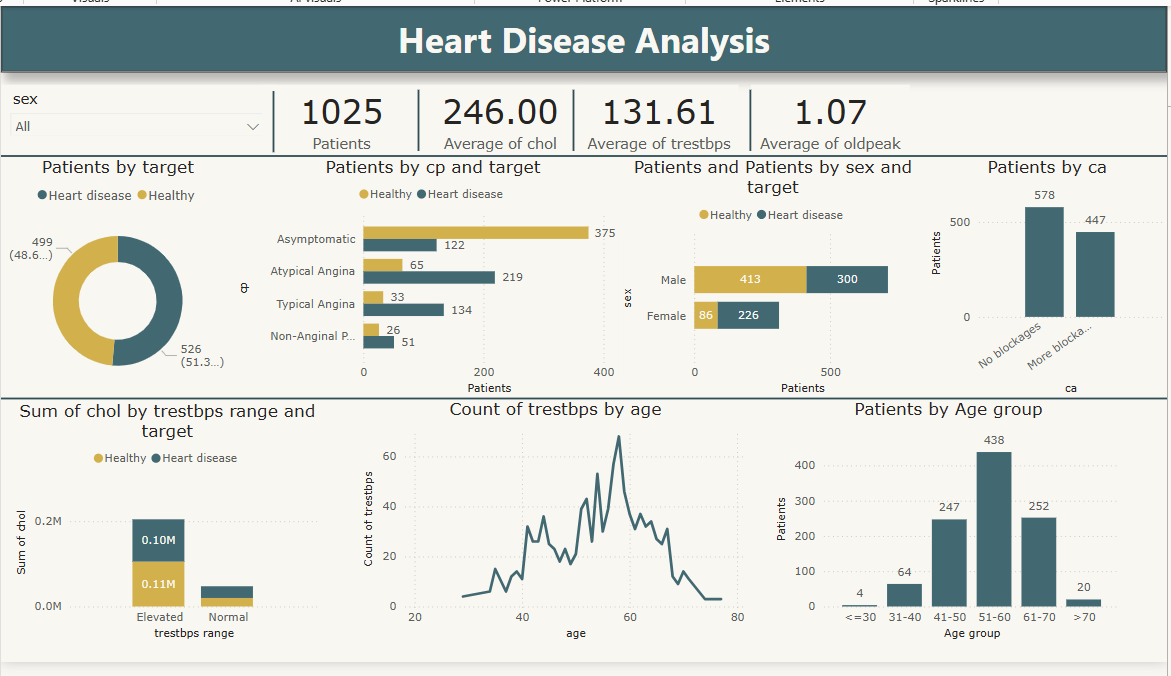

The page's visual inventory and layout, read from the dashboard file:
{"tool":"powerbi","page":{"name":"Page 1","canvas":[1280,720],"ordinal":0},"visuals":[{"type":"donutChart","fields":{"Category":["heart.target"],"Y":["heart.Patients"]},"box":[0,164.7,256.6,266.2],"z":0},{"type":"clusteredBarChart","fields":{"Category":["heart.cp"],"Y":["heart.Patients"],"Series":["heart.target"]},"box":[256.6,164.7,435,266.2],"z":1},{"type":"barChart","fields":{"Series":["heart.target"],"Category":["heart.sex"],"Y":["heart.Patients"]},"box":[677.9,164.7,338.9,266.2],"z":2},{"type":"columnChart","fields":{"Category":["heart.ca"],"Y":["heart.Patients"]},"box":[1016.8,164.7,263.5,266.2],"z":3},{"type":"columnChart","fields":{"Category":["heart.trestbps range"],"Series":["heart.target"],"Y":["Sum(heart.chol)"]},"box":[12.3,432.2,340.3,267.6],"z":4},{"type":"columnChart","fields":{"Y":["heart.Patients"],"Category":["Age groups.Age group"]},"box":[846.7,430.9,387,269],"z":5},{"type":"lineChart","fields":{"Category":["heart.age"],"Y":["CountNonNull(heart.trestbps)"]},"box":[393.8,430.9,429.5,269],"z":6},{"type":"shape","box":[0,0,1280.3,72.7],"z":7},{"type":"slicer","fields":{"Values":["heart.sex"]},"box":[0,86.4,299.1,56.3],"z":8},{"type":"card","fields":{"Values":["heart.Patients"]},"box":[286.8,86.4,174.3,78.2],"z":9},{"type":"card","fields":{"Values":["Avg(heart.chol)"]},"box":[461.1,86.4,174.3,78.2],"z":10},{"type":"card","fields":{"Values":["Avg(heart.trestbps)"]},"box":[635.3,86.4,174.3,78.2],"z":11},{"type":"card","fields":{"Values":["Avg(heart.oldpeak)"]},"box":[823.3,86.4,174.3,78.2],"z":12},{"type":"shape","box":[0,15.1,1280.3,299.1],"z":13},{"type":"shape","box":[0,281.3,1280.3,299.1],"z":14},{"type":"shape","box":[282.7,93.3,32.9,67.2],"z":15},{"type":"shape","box":[441.9,91.9,32.9,67.2],"z":16},{"type":"shape","box":[609.3,91.9,38.4,67.2],"z":17},{"type":"shape","box":[798.6,91.9,48,67.2],"z":18}]}

Visuals, with their boxes on the page's 1280x720 design canvas (x1, y1, x2, y2). These are canvas units, not pixel positions in the 1171x676 screenshot, which may show the page scaled, cropped or inside an application window:
donutChart - heart.target x heart.Patients: [left=0, top=165, right=257, bottom=431]
clusteredBarChart - heart.cp x heart.Patients: [left=257, top=165, right=692, bottom=431]
barChart - heart.target x heart.sex: [left=678, top=165, right=1017, bottom=431]
columnChart - heart.ca x heart.Patients: [left=1017, top=165, right=1280, bottom=431]
columnChart - heart.trestbps range x heart.target: [left=12, top=432, right=353, bottom=700]
columnChart - heart.Patients x Age groups.Age group: [left=847, top=431, right=1234, bottom=700]
lineChart - heart.age x CountNonNull(heart.trestbps): [left=394, top=431, right=823, bottom=700]
shape: [left=0, top=0, right=1280, bottom=73]
slicer - heart.sex: [left=0, top=86, right=299, bottom=143]
card - heart.Patients: [left=287, top=86, right=461, bottom=165]
card - Avg(heart.chol): [left=461, top=86, right=635, bottom=165]
card - Avg(heart.trestbps): [left=635, top=86, right=810, bottom=165]
card - Avg(heart.oldpeak): [left=823, top=86, right=998, bottom=165]
shape: [left=0, top=15, right=1280, bottom=314]
shape: [left=0, top=281, right=1280, bottom=580]
shape: [left=283, top=93, right=316, bottom=160]
shape: [left=442, top=92, right=475, bottom=159]
shape: [left=609, top=92, right=648, bottom=159]
shape: [left=799, top=92, right=847, bottom=159]
